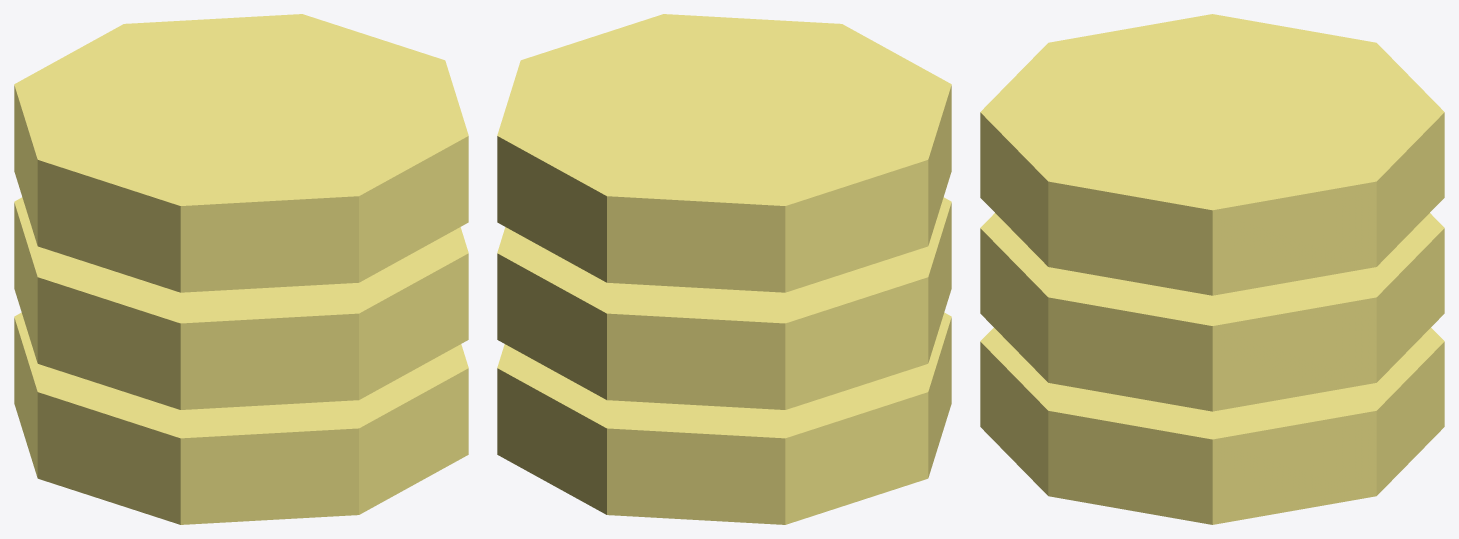
File: Roap attach.fbx
3 renders of one model, left to right at view 1: azimuth 30°, elevation 25°; view 2: azimuth 150°, elevation 25°; view 3: azimuth 270°, elevation 25°, orthographic.
Parts seen in each view (by area): view 1: Roap attach; view 2: Roap attach; view 3: Roap attach.
Boxes of the visible parts, x1=… form: Roap attach: x1=14, y1=14, x2=468, y2=524; Roap attach: x1=497, y1=14, x2=951, y2=524; Roap attach: x1=980, y1=14, x2=1444, y2=524.
Size of the model in its own units: 33.25 by 24.86 by 33.25.
